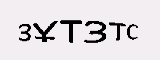Ұ: (33, 21, 59, 44)
